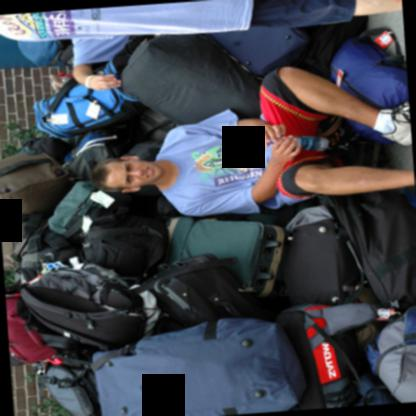backpack: (90, 315, 308, 416), (14, 256, 162, 348), (0, 147, 78, 271), (28, 78, 138, 137), (84, 212, 168, 280), (52, 244, 82, 261)
suitcase: (322, 186, 416, 318), (163, 215, 285, 299), (0, 144, 77, 268), (328, 28, 409, 144), (138, 257, 272, 326), (283, 218, 374, 306), (206, 23, 331, 76)
